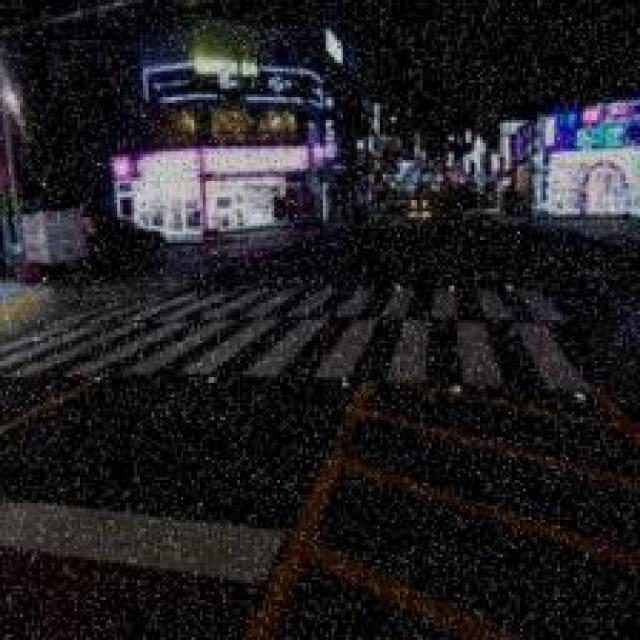crosswalk: (1, 274, 588, 397)
